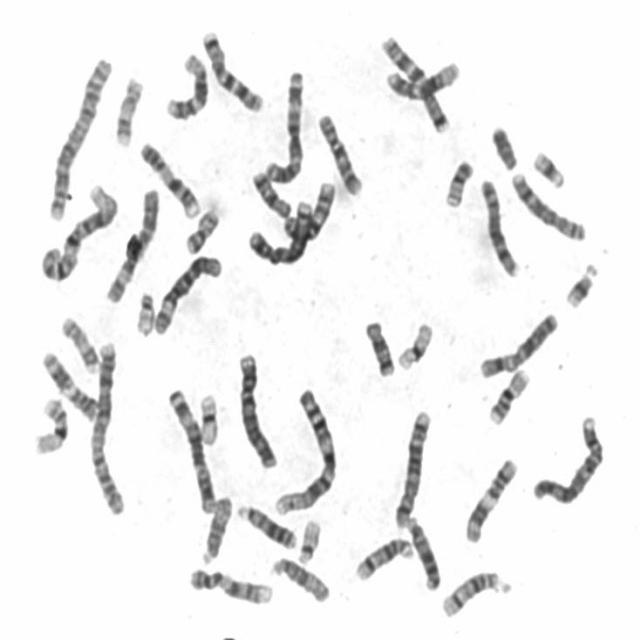A1: (269, 382, 340, 516), (35, 177, 120, 283)
A2: (42, 50, 114, 223), (86, 334, 128, 518)
A3: (162, 380, 218, 514), (260, 64, 307, 184)
B4: (527, 409, 606, 506), (233, 346, 280, 470)
B5: (389, 402, 434, 530), (250, 199, 315, 273)
C10: (312, 105, 365, 197), (278, 175, 338, 242)
C11: (460, 450, 520, 546), (37, 343, 100, 423)
C12: (380, 54, 462, 100), (161, 46, 210, 121)
C6: (101, 182, 161, 305), (148, 247, 224, 337)
C7: (376, 28, 452, 134), (196, 22, 266, 113)
C8: (506, 165, 588, 243), (474, 171, 522, 279)
C9: (135, 136, 202, 220), (183, 561, 275, 607)
D13: (401, 508, 443, 592), (232, 498, 299, 550)
D14: (436, 565, 513, 620), (350, 530, 415, 582)
D15: (266, 549, 332, 605), (196, 489, 234, 566)
E16: (484, 360, 532, 426), (28, 390, 71, 457)
E17: (56, 310, 101, 375), (110, 69, 145, 148)
E18: (247, 163, 293, 218), (359, 313, 397, 378)
F19: (392, 315, 435, 372), (193, 387, 220, 446)
F20: (180, 202, 222, 254), (440, 152, 475, 209)
G21: (560, 255, 600, 310), (528, 142, 568, 190)
G22: (292, 512, 324, 566), (130, 284, 156, 338)
X: (474, 305, 561, 380)
Y: (486, 117, 520, 172)
